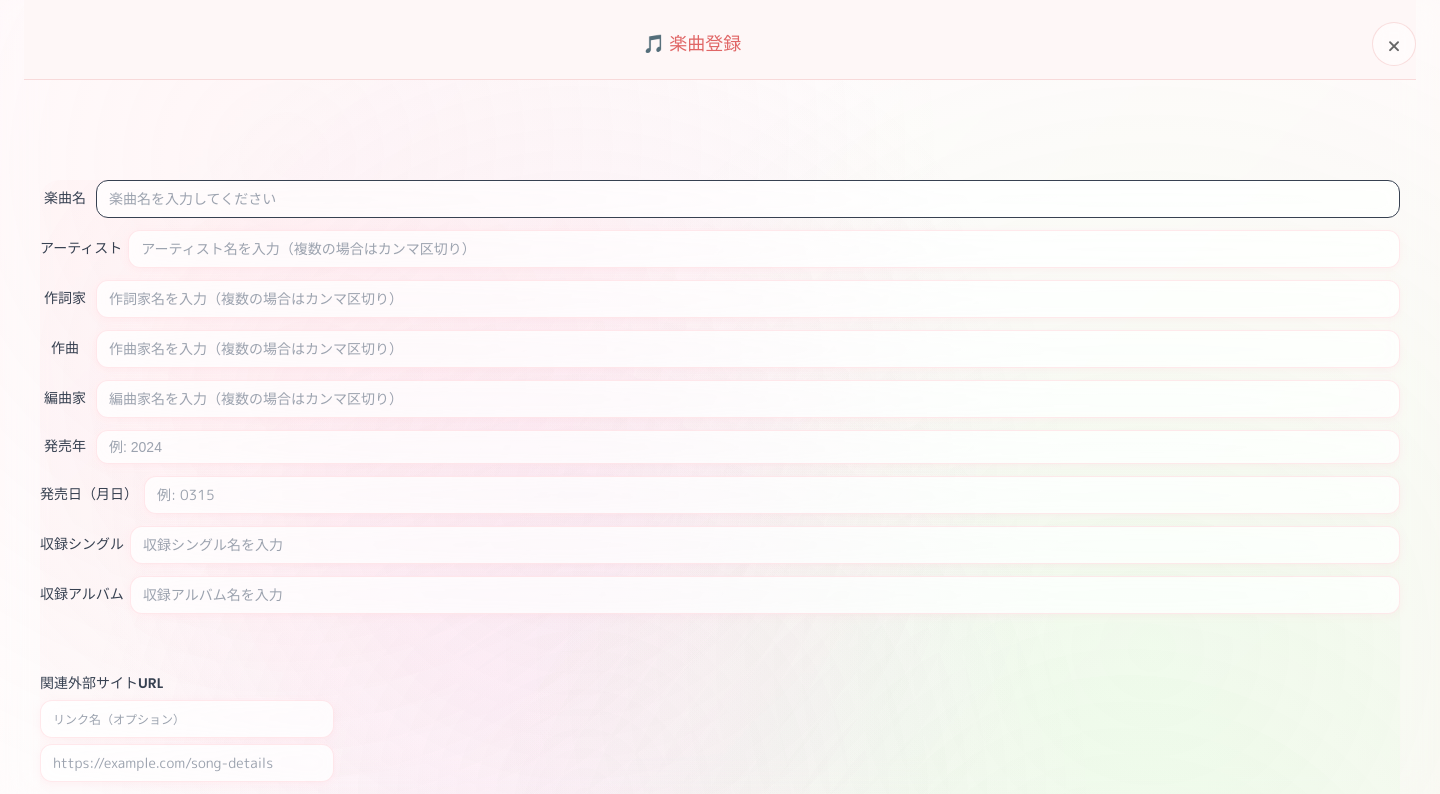
Scenario: SongRegistrationForm › form validation › should show error when no person information is provided
Type "テスト楽曲" into the field labelled "楽曲名" at (748, 199), box [96,180,1400,218]
(page scrolled)
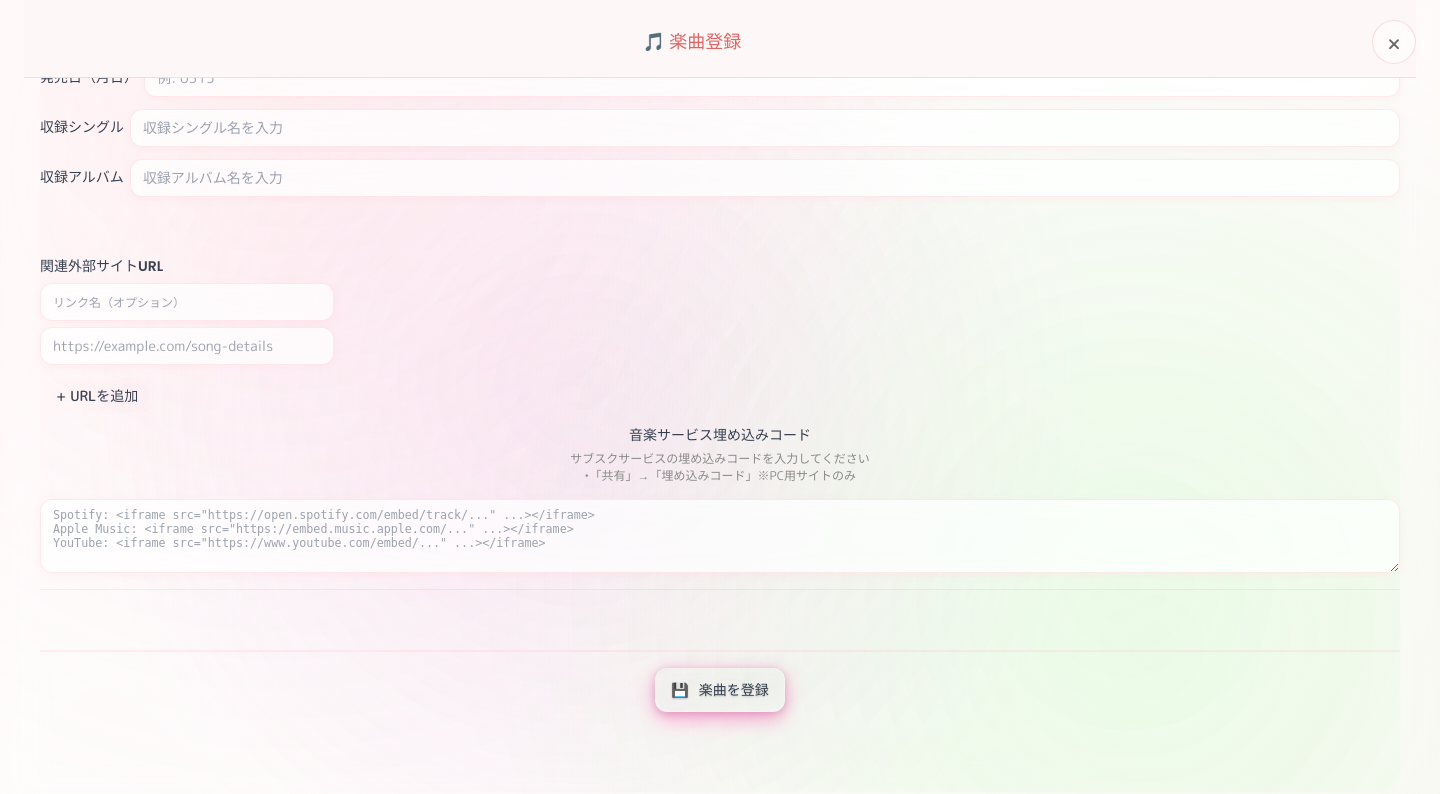
Click the button "楽曲を登録" at (720, 690), box [655,668,785,712]
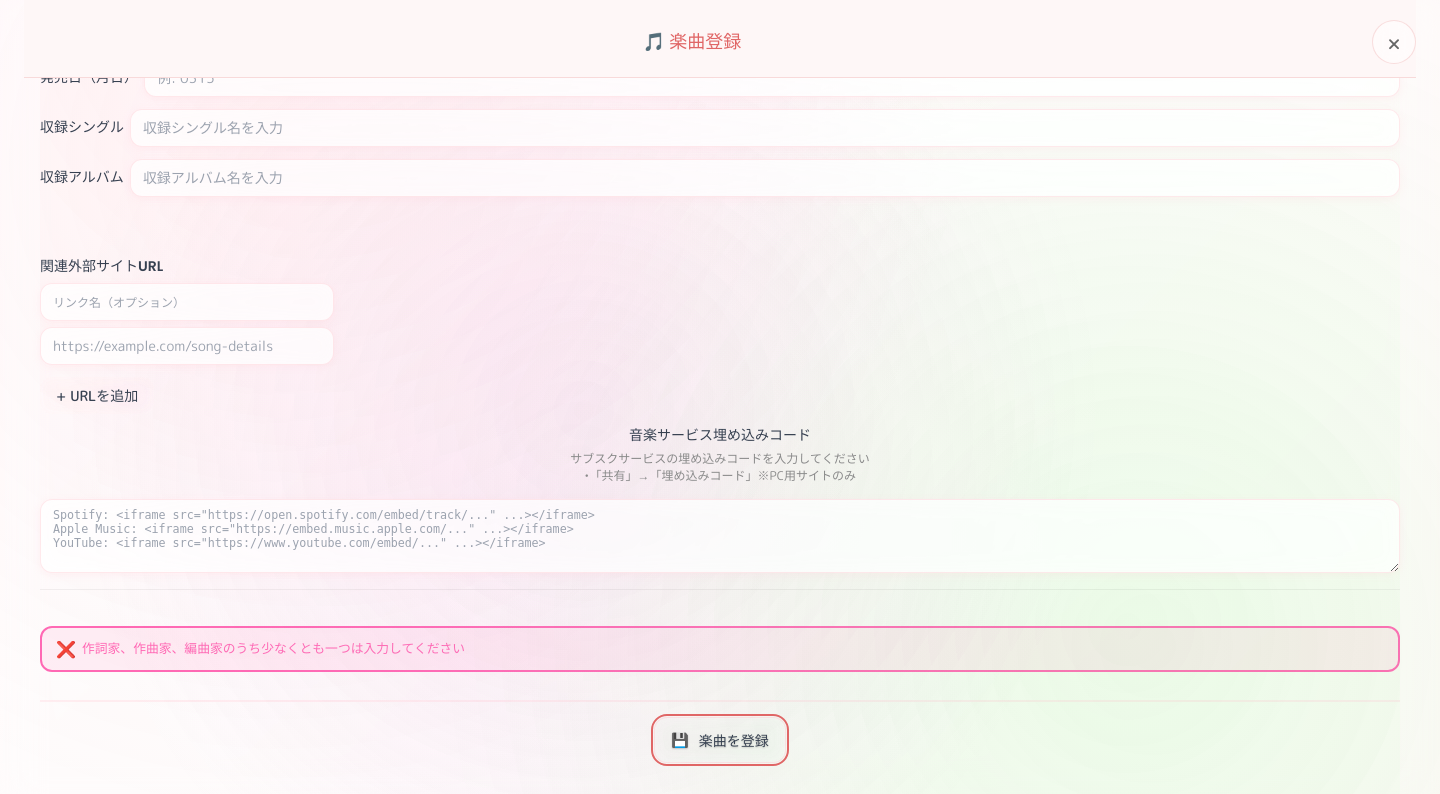
Expected: the text "作詞家、作曲家、編曲家のうち少なくとも一つは入力してください" is shown, [40,626,1400,672]
